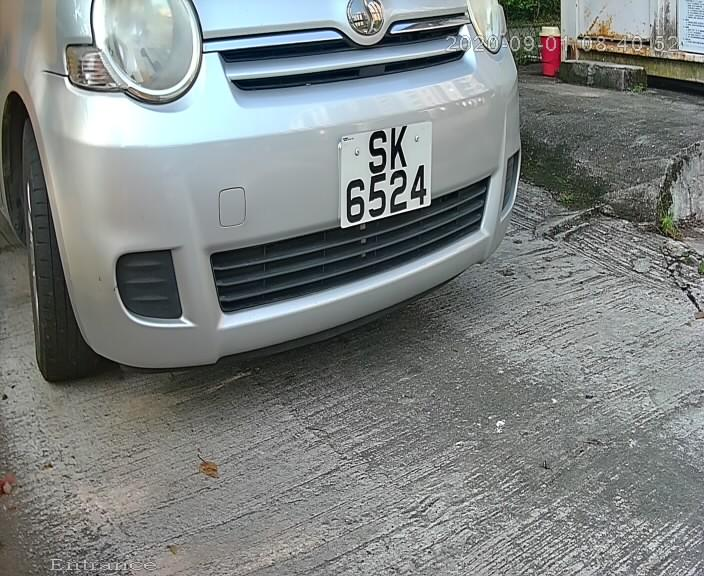License Plate: (327, 111, 444, 245)
